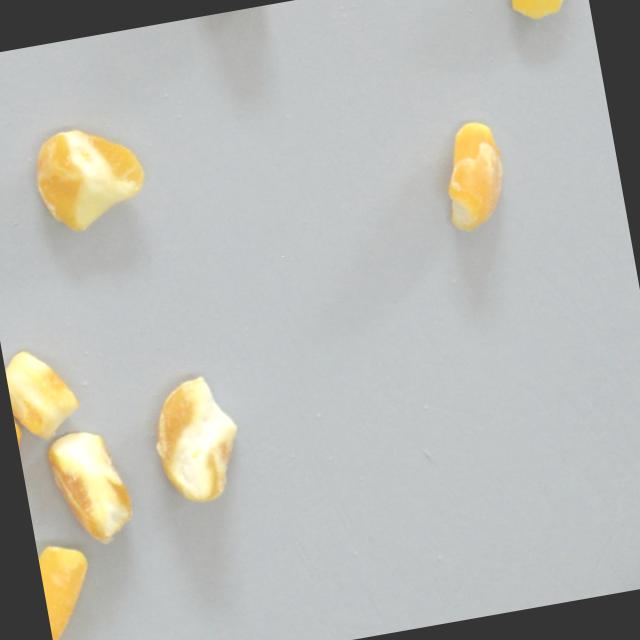estandar: (1, 342, 87, 446)
pelicula: (24, 115, 157, 242), (142, 370, 256, 512), (43, 422, 140, 552), (430, 117, 520, 239), (35, 538, 103, 640), (507, 0, 591, 27)
